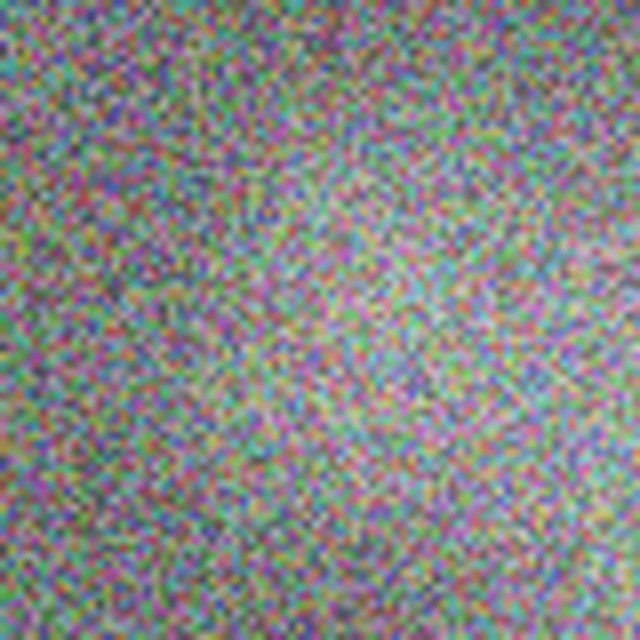smoke: (326, 199, 628, 501)
